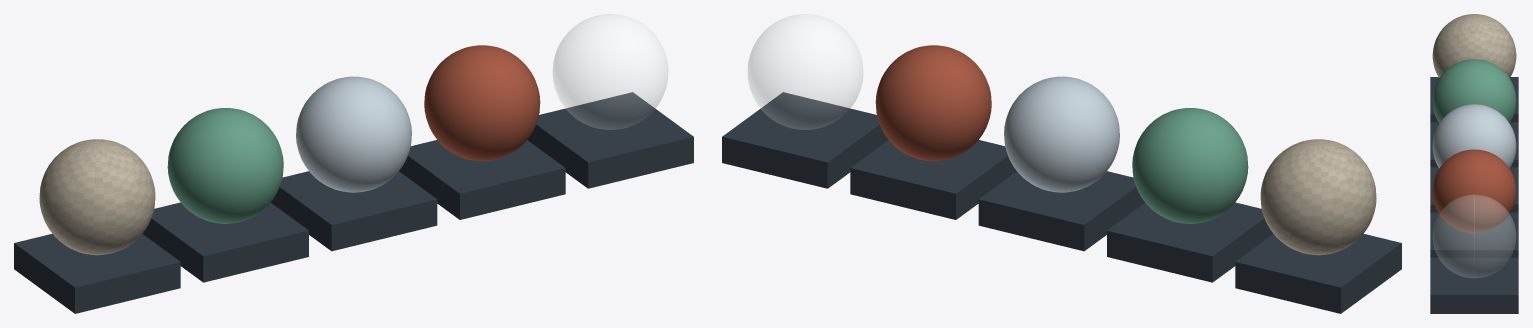
Rendered from amostra.glb.
3 views of the same model, side by side, from view 1: azimuth 30°, elevation 25°; view 2: azimuth 150°, elevation 25°; view 3: azimuth 270°, elevation 25° (orthographic). The views are drawn at different scales.
Parts seen in each view (by area): view 1: Superfície com verniz, Pintura acetinada, Metal escovado, Mineral fosco, Vidro com volume, Pedestal 5, Pedestal 1, Pedestal 3, Pedestal 4, Pedestal 2; view 2: Superfície com verniz, Pintura acetinada, Metal escovado, Mineral fosco, Vidro com volume, Pedestal 5, Pedestal 1, Pedestal 3, Pedestal 4, Pedestal 2; view 3: Superfície com verniz, Vidro com volume, Pedestal 5, Mineral fosco, Metal escovado, Pintura acetinada, Pedestal 4, Pedestal 3, Pedestal 1, Pedestal 2.
Part boxes in pixels (left/top/right/bottom): Superfície com verniz: left=424, top=45, right=540, bottom=161; Pintura acetinada: left=167, top=108, right=283, bottom=223; Metal escovado: left=296, top=76, right=411, bottom=192; Mineral fosco: left=39, top=139, right=155, bottom=255; Vidro com volume: left=553, top=14, right=668, bottom=129; Pedestal 5: left=527, top=92, right=693, bottom=188; Pedestal 1: left=14, top=233, right=180, bottom=313; Pedestal 3: left=271, top=171, right=437, bottom=251; Pedestal 4: left=399, top=140, right=565, bottom=219; Pedestal 2: left=142, top=202, right=308, bottom=282; Superfície com verniz: left=875, top=45, right=991, bottom=161; Pintura acetinada: left=1132, top=108, right=1248, bottom=223; Metal escovado: left=1004, top=76, right=1119, bottom=192; Mineral fosco: left=1260, top=139, right=1376, bottom=255; Vidro com volume: left=747, top=14, right=862, bottom=129; Pedestal 5: left=722, top=92, right=888, bottom=188; Pedestal 1: left=1235, top=233, right=1401, bottom=313; Pedestal 3: left=978, top=171, right=1144, bottom=251; Pedestal 4: left=850, top=140, right=1016, bottom=219; Pedestal 2: left=1107, top=202, right=1273, bottom=282; Superfície com verniz: left=1432, top=149, right=1516, bottom=233; Vidro com volume: left=1433, top=195, right=1515, bottom=277; Pedestal 5: left=1430, top=257, right=1518, bottom=313; Mineral fosco: left=1432, top=14, right=1516, bottom=77; Metal escovado: left=1432, top=104, right=1516, bottom=168; Pintura acetinada: left=1432, top=59, right=1516, bottom=123; Pedestal 4: left=1430, top=212, right=1518, bottom=257; Pedestal 3: left=1430, top=167, right=1518, bottom=212; Pedestal 1: left=1430, top=77, right=1518, bottom=122; Pedestal 2: left=1430, top=122, right=1518, bottom=167.
Size of the model in its own units: 12.3 by 2.55 by 2.1.
6 materials, 1 textured.
